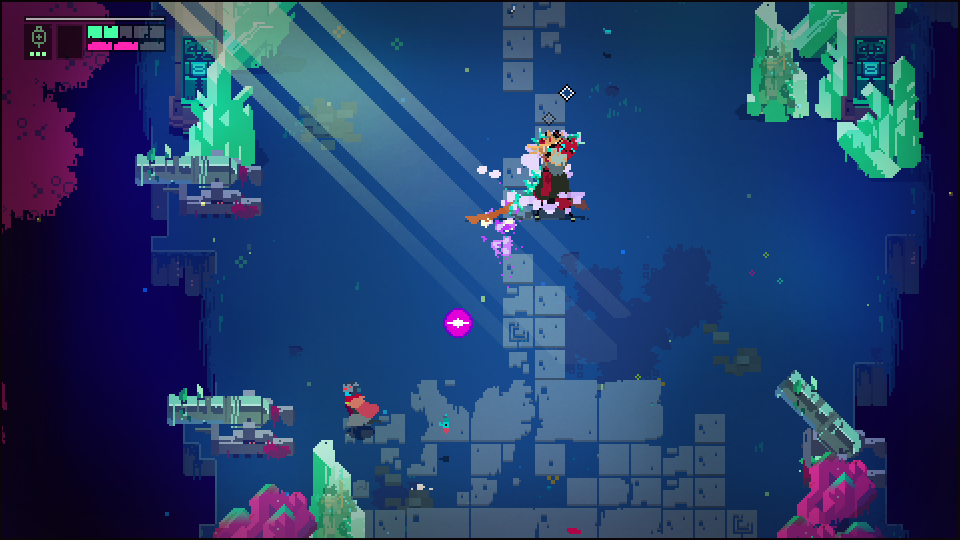hanged_man: (513, 130, 586, 231)
hanged_shot: (443, 308, 473, 337)
player: (339, 382, 379, 436)
